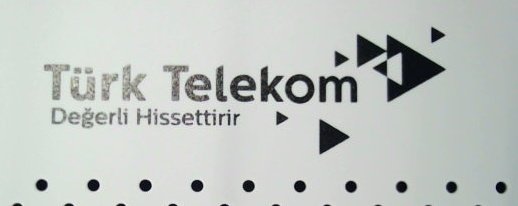AQ_TURKTelekom: (37, 22, 446, 156)
